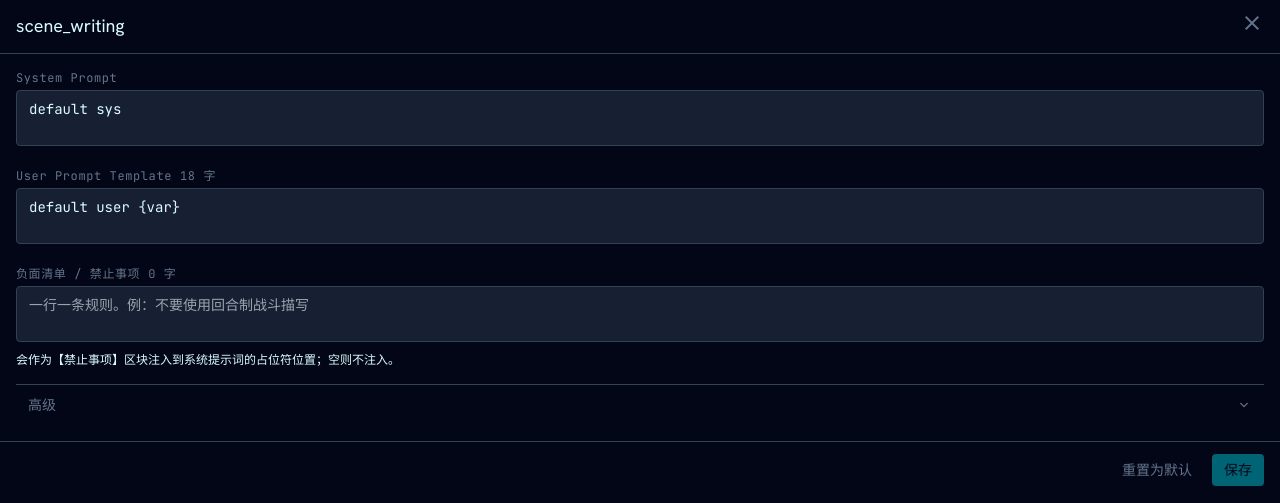
Test: PromptEditPanel › enables save when system_prompt is changed
Replace the text in the text box with test id "edit-system" with "changed" at (640, 118), box [16,90,1264,146]
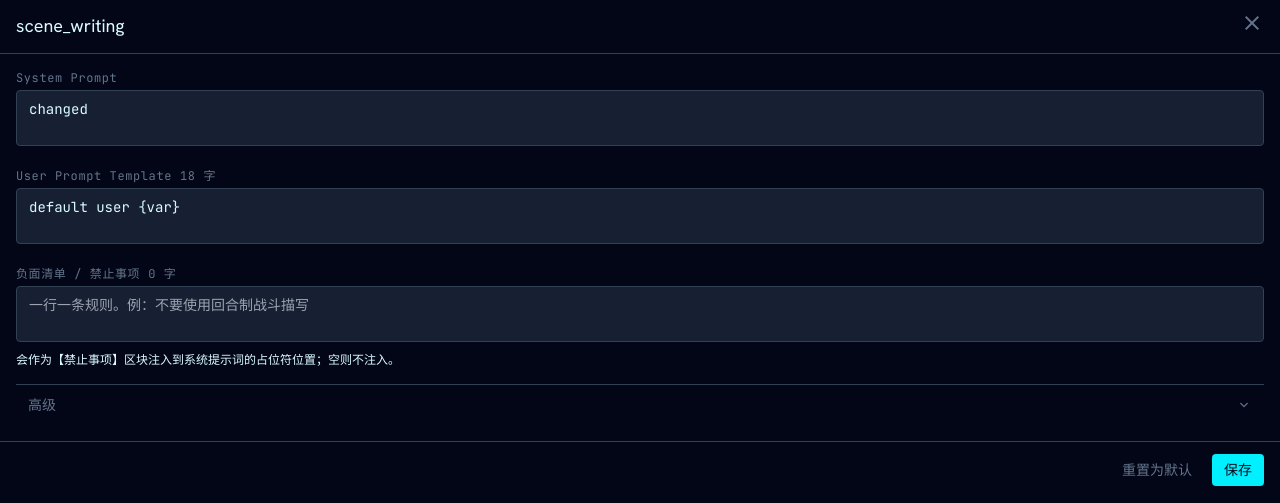
expect the button with test id "save-button" is enabled: met, box [1212,454,1264,486]
